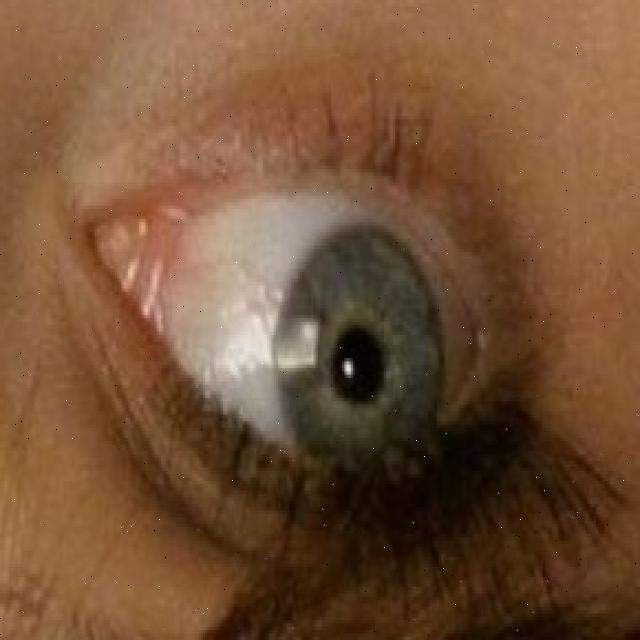Normal: (272, 225, 441, 483)
